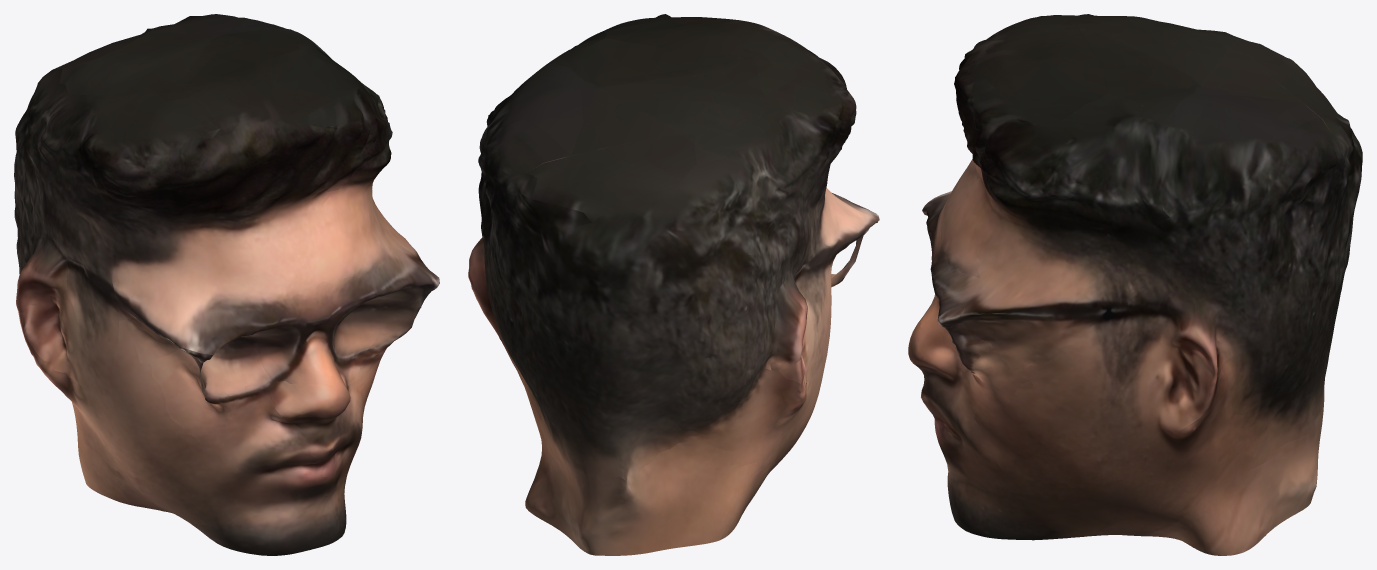
3 views of the same model, side by side, from view 1: azimuth 30°, elevation 25°; view 2: azimuth 150°, elevation 25°; view 3: azimuth 270°, elevation 25° (orthographic). The views are drawn at different scales.
Visible parts, largest first — view 1: world; view 2: world; view 3: world.
Part boxes in pixels (left/top/right/bottom): world: left=14, top=14, right=439, bottom=555; world: left=468, top=14, right=879, bottom=555; world: left=908, top=14, right=1362, bottom=555.
Size of the model in its own units: 0.2263 by 0.2888 by 0.2589.
1 material, 1 textured.
